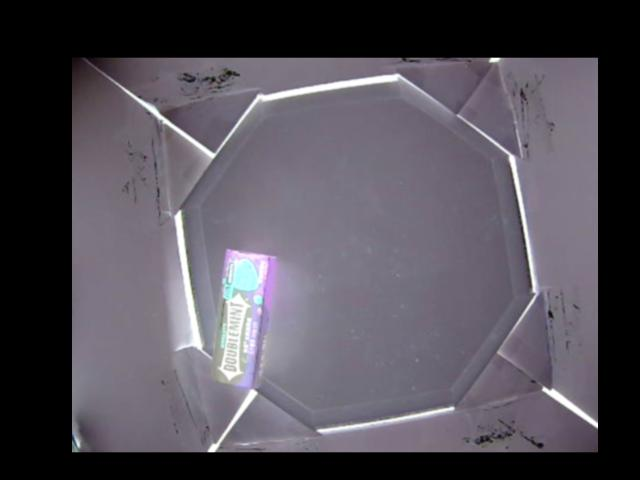Bottle: (212, 246, 274, 393)
